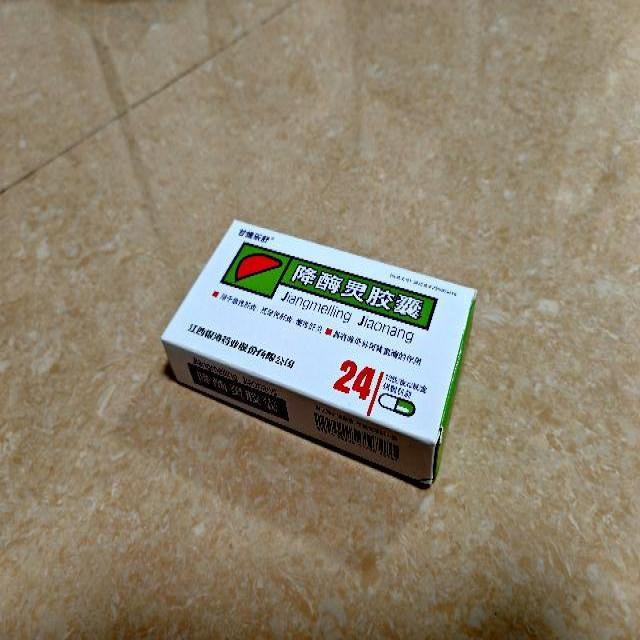box: (162, 218, 480, 486)
